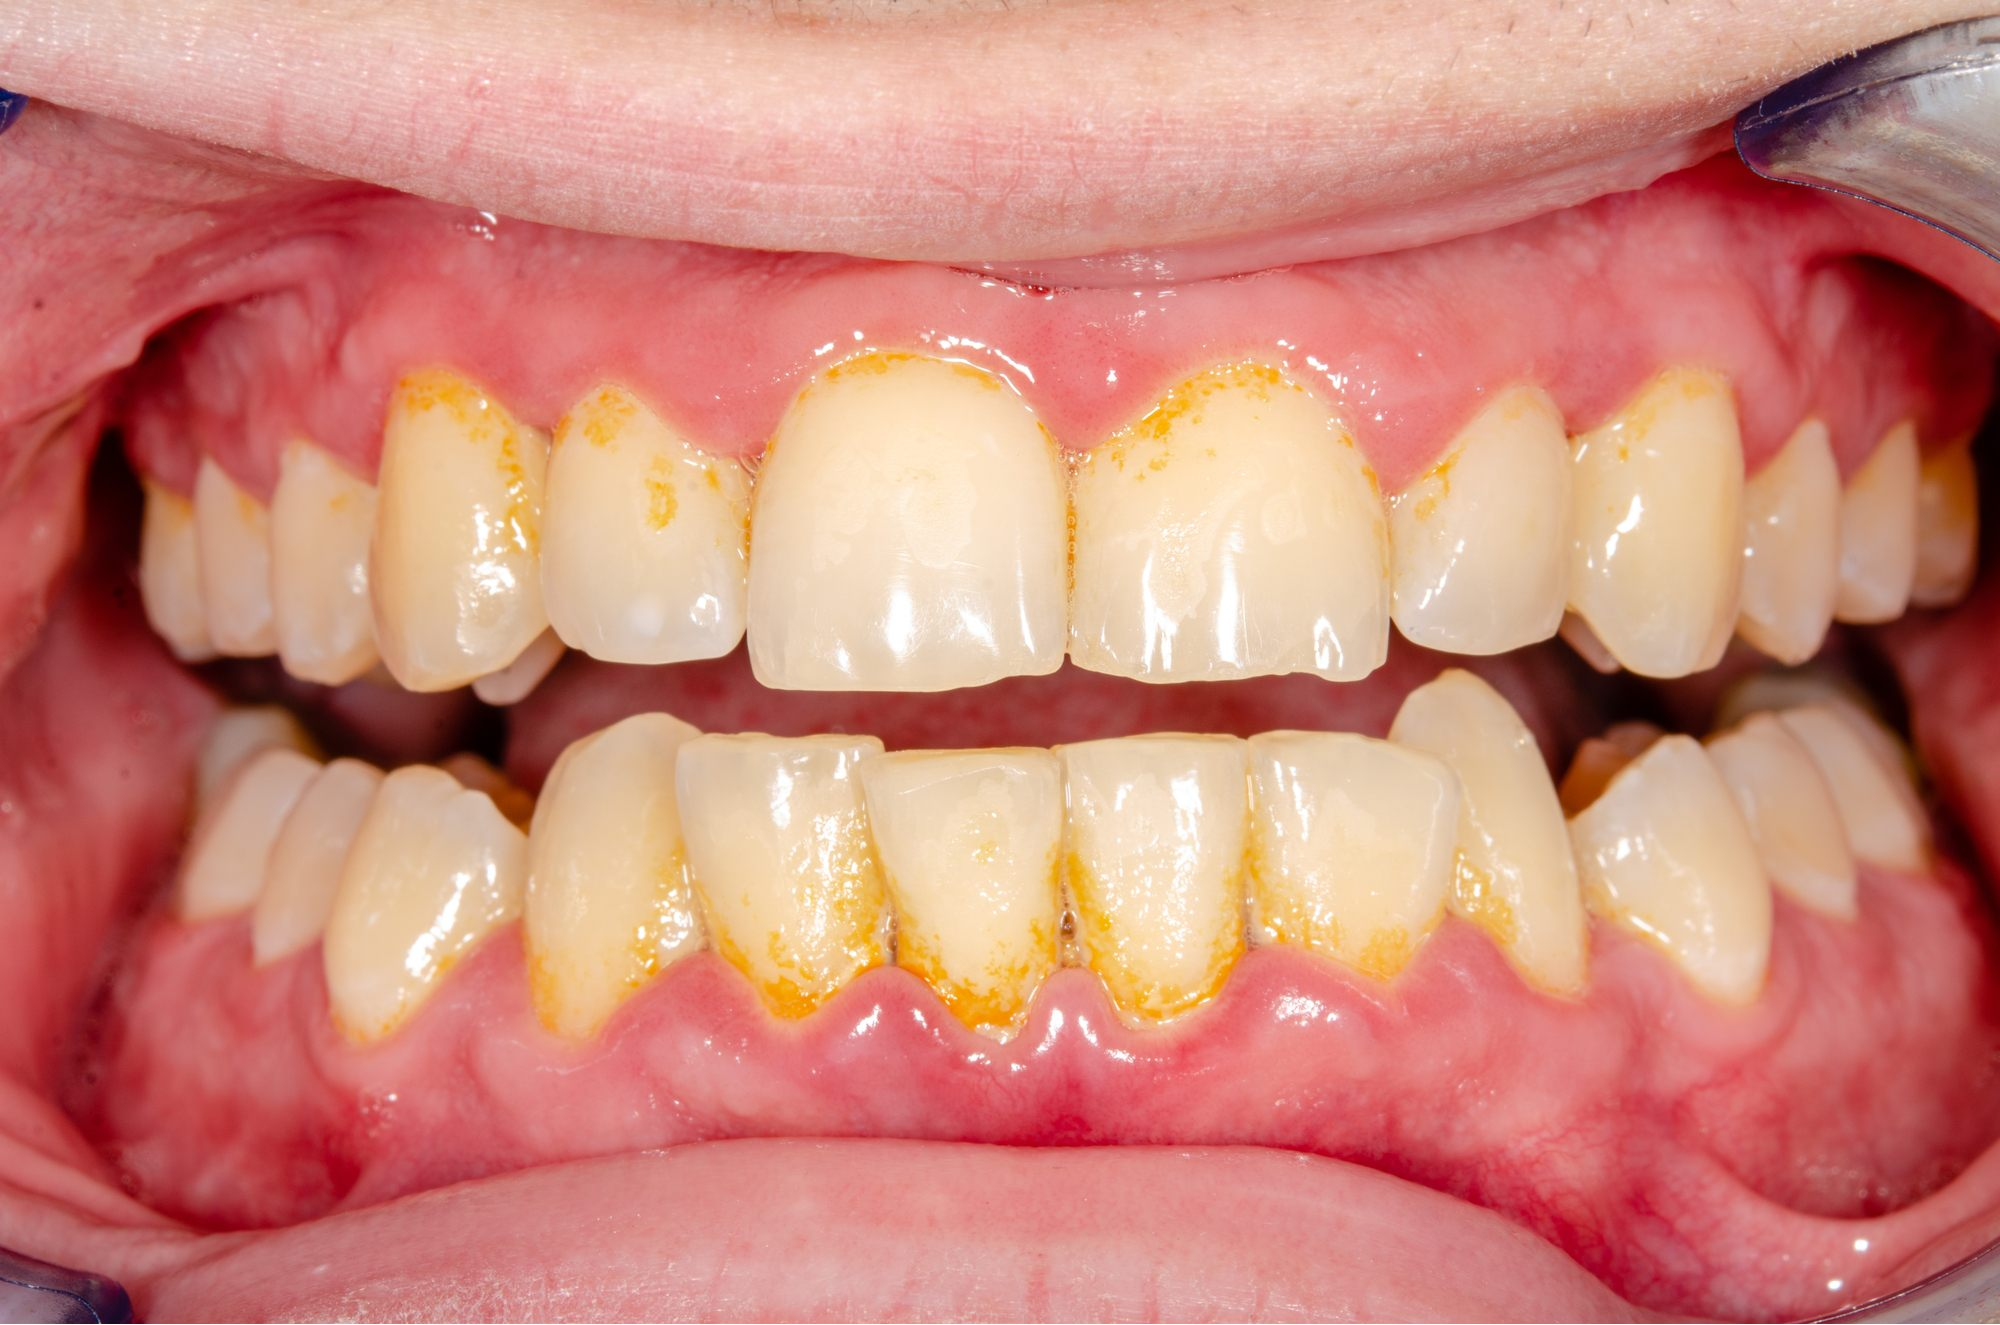LL1BC_healthy: (1576, 728, 1768, 1022)
LL2BC_healthy: (1737, 708, 1870, 918)
LLCI_decay: (1072, 731, 1265, 1040)
LLC_healthy: (1432, 688, 1583, 1031)
LLLI_decay: (1261, 735, 1458, 1009)
LR1BC_healthy: (318, 765, 523, 1035)
LRCI_decay: (860, 742, 1070, 1066)
LRC_decay: (517, 720, 705, 1034)
LRLI_decay: (661, 722, 890, 1048)
UL1BC_healthy: (1740, 424, 1842, 668)
UL2BC_healthy: (1840, 429, 1926, 618)
ULCI_decay: (1066, 356, 1394, 698)
ULC_decay: (1579, 370, 1753, 679)
ULLI_decay: (1394, 379, 1576, 662)
UR1BC_decay: (262, 453, 390, 694)
UR2BC_decay: (185, 464, 273, 657)
URCI_decay: (749, 340, 1070, 694)
URC_decay: (370, 376, 553, 698)
URLI_decay: (535, 387, 755, 665)
